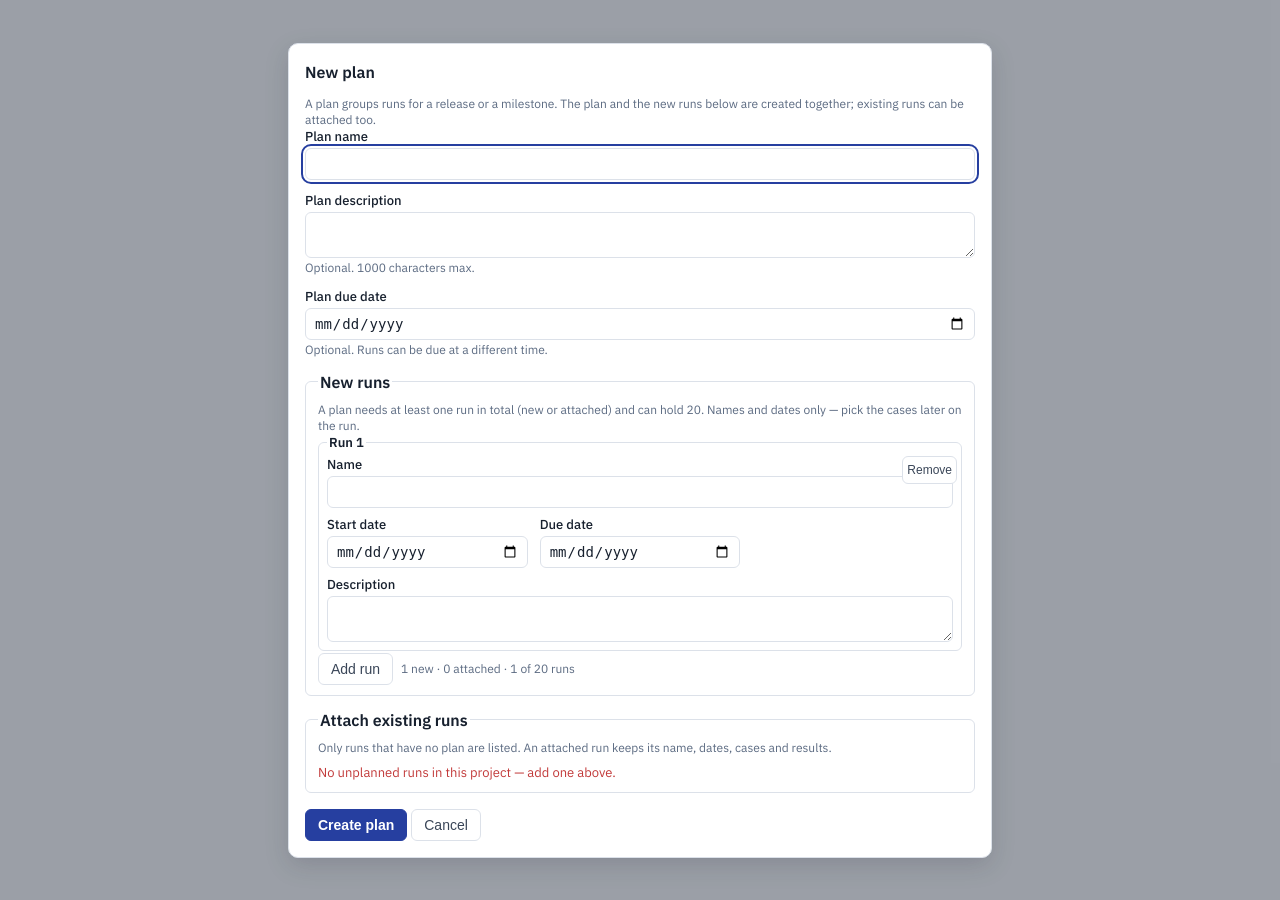
Test case: PlanWithRunsDialog › starts with one run and both halves of the name required
Check: the element "Run 1" is shown, box top-left (318, 434), bottom-right (962, 650)
Click the button "Create plan": (356, 824) top-left (305, 808), bottom-right (407, 840)
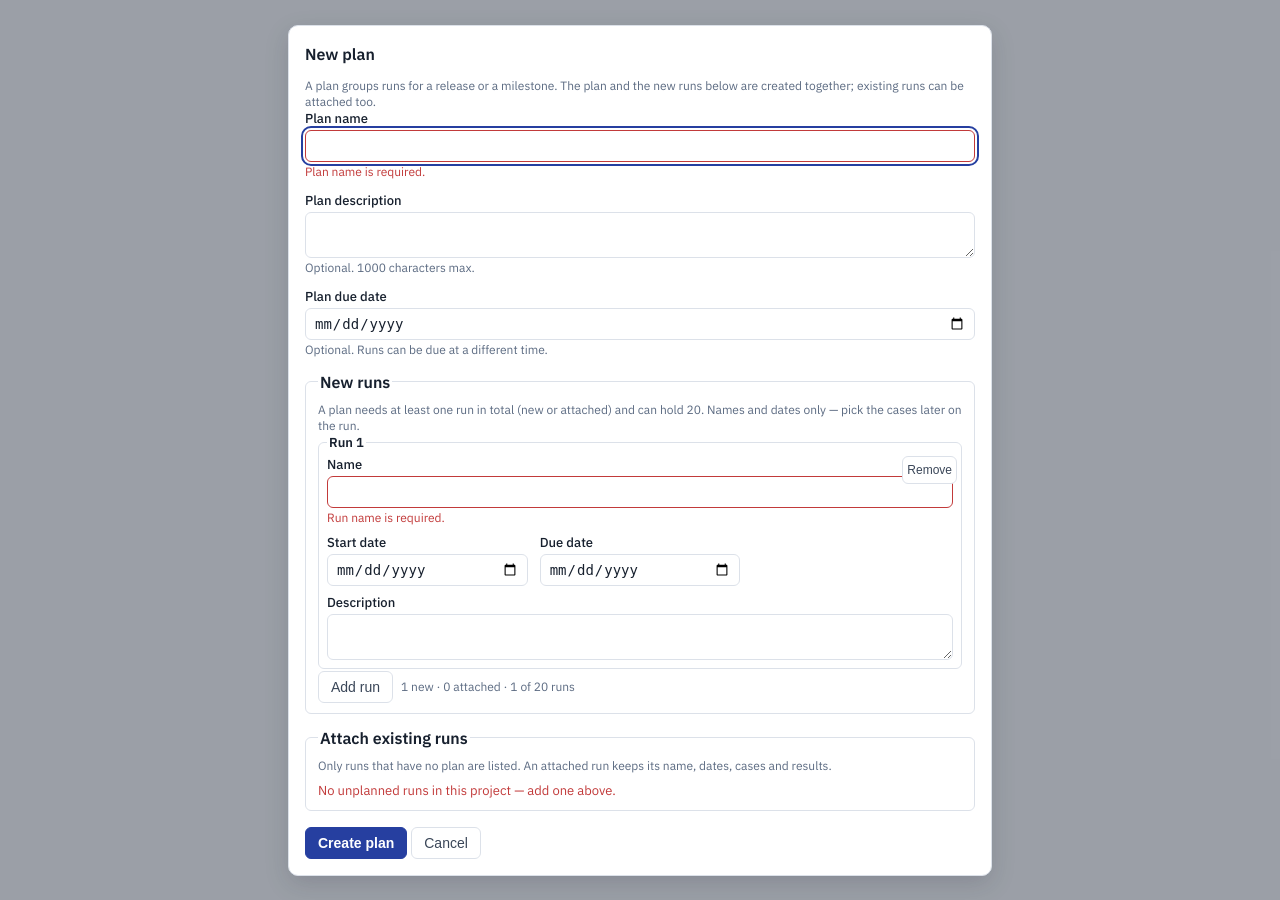
Check: the text "Plan name is required." is shown, box top-left (305, 164), bottom-right (425, 178)
Check: the text "Run name is required." is shown, box top-left (327, 510), bottom-right (445, 524)
